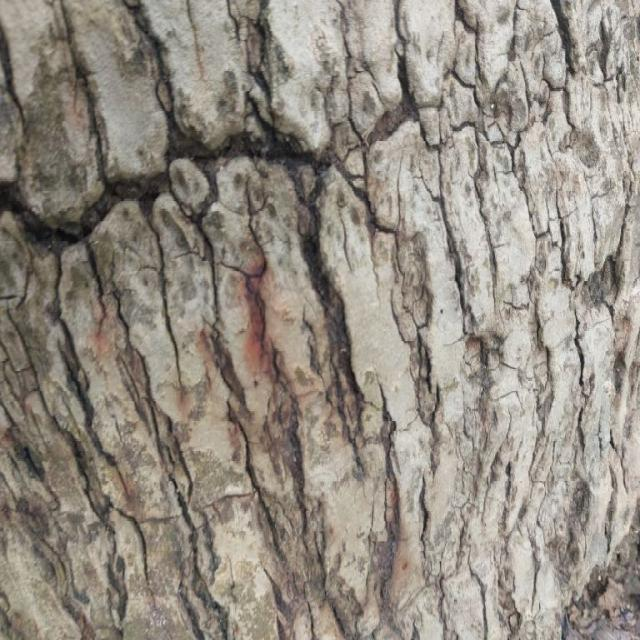stembleeding: (193, 218, 305, 427)
